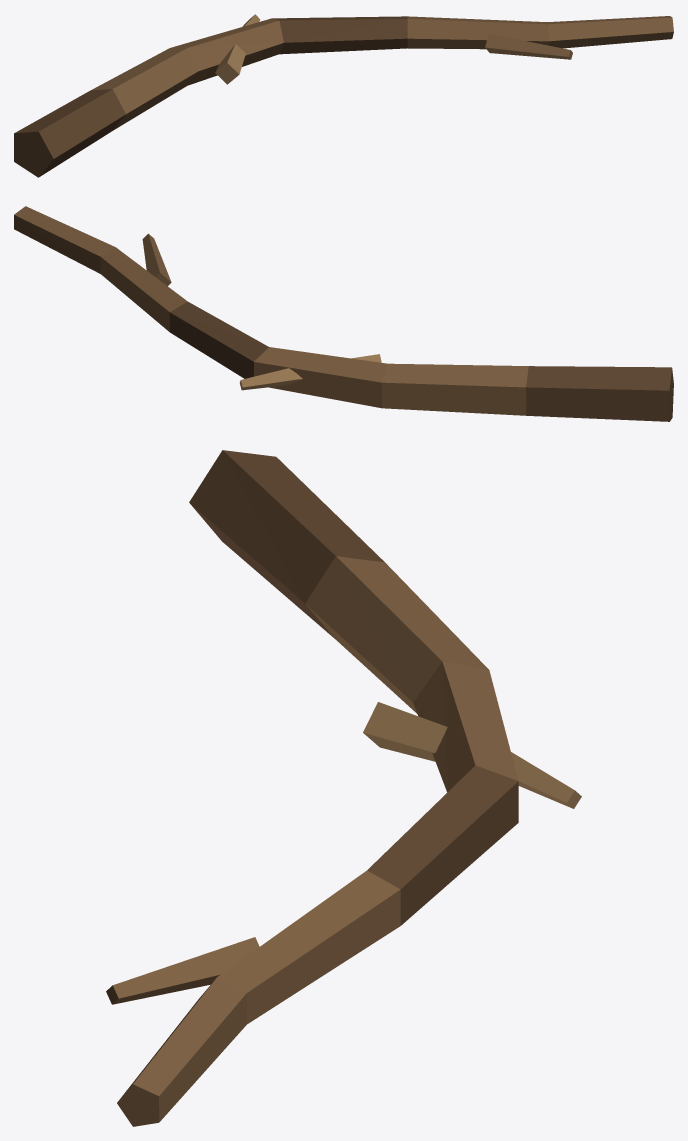
File: GroundDetail_DryTwig_A.fbx
The picture shows the model from 3 angles, top to bottom: view 1: azimuth 30°, elevation 25°; view 2: azimuth 150°, elevation 25°; view 3: azimuth 270°, elevation 25°; orthographic projection. The views are drawn at different scales.
Visible parts, largest first — view 1: GroundDetail_DryTwig_A; view 2: GroundDetail_DryTwig_A; view 3: GroundDetail_DryTwig_A.
Boxes of the visible parts, x1=… form: GroundDetail_DryTwig_A: x1=14, y1=14, x2=673, y2=177; GroundDetail_DryTwig_A: x1=14, y1=206, x2=673, y2=421; GroundDetail_DryTwig_A: x1=106, y1=450, x2=581, y2=1126.
Bounding box in the file's own units: 0.4072 × 0.0285 × 0.1339.
1 material, 1 textured.
